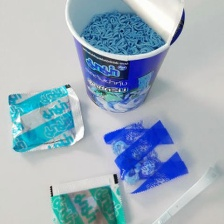paper_cup: (59, 0, 190, 118)
